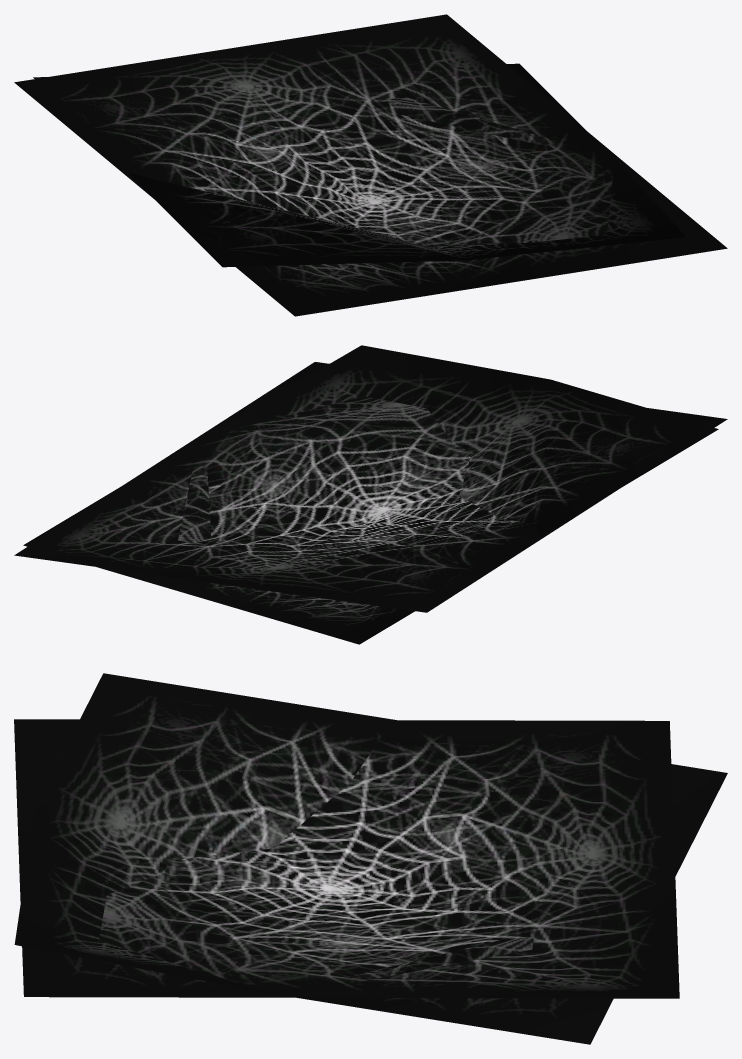
Rendered from DWARF_PALACE_SPIDERWEB15.fbx.
3 views of the same model, one above another, from view 1: azimuth 30°, elevation 25°; view 2: azimuth 150°, elevation 25°; view 3: azimuth 270°, elevation 25° (orthographic). The views are drawn at different scales.
Parts seen in each view (by area): view 1: DWARF_PALACE_SPIDERWEB15; view 2: DWARF_PALACE_SPIDERWEB15; view 3: DWARF_PALACE_SPIDERWEB15.
Boxes of the visible parts, x1,y1,x2,y2 form: DWARF_PALACE_SPIDERWEB15: (14, 14, 727, 316); DWARF_PALACE_SPIDERWEB15: (14, 345, 727, 644); DWARF_PALACE_SPIDERWEB15: (14, 673, 727, 1044).
Size of the model in its own units: 126994 by 24764 by 138620.
1 material, 1 textured.
